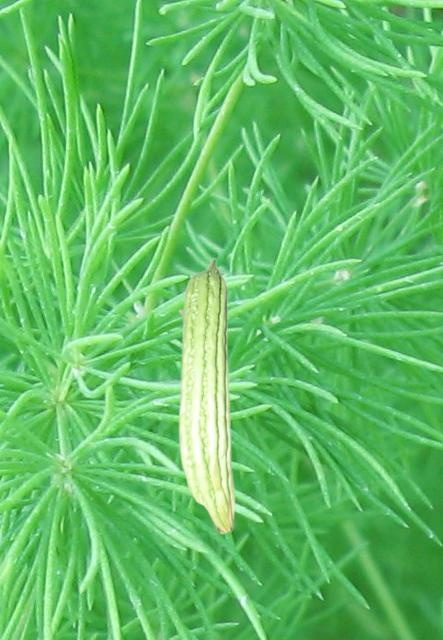ampalaya: (176, 255, 235, 536)
